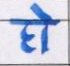e_matra: (30, 3, 52, 19)
